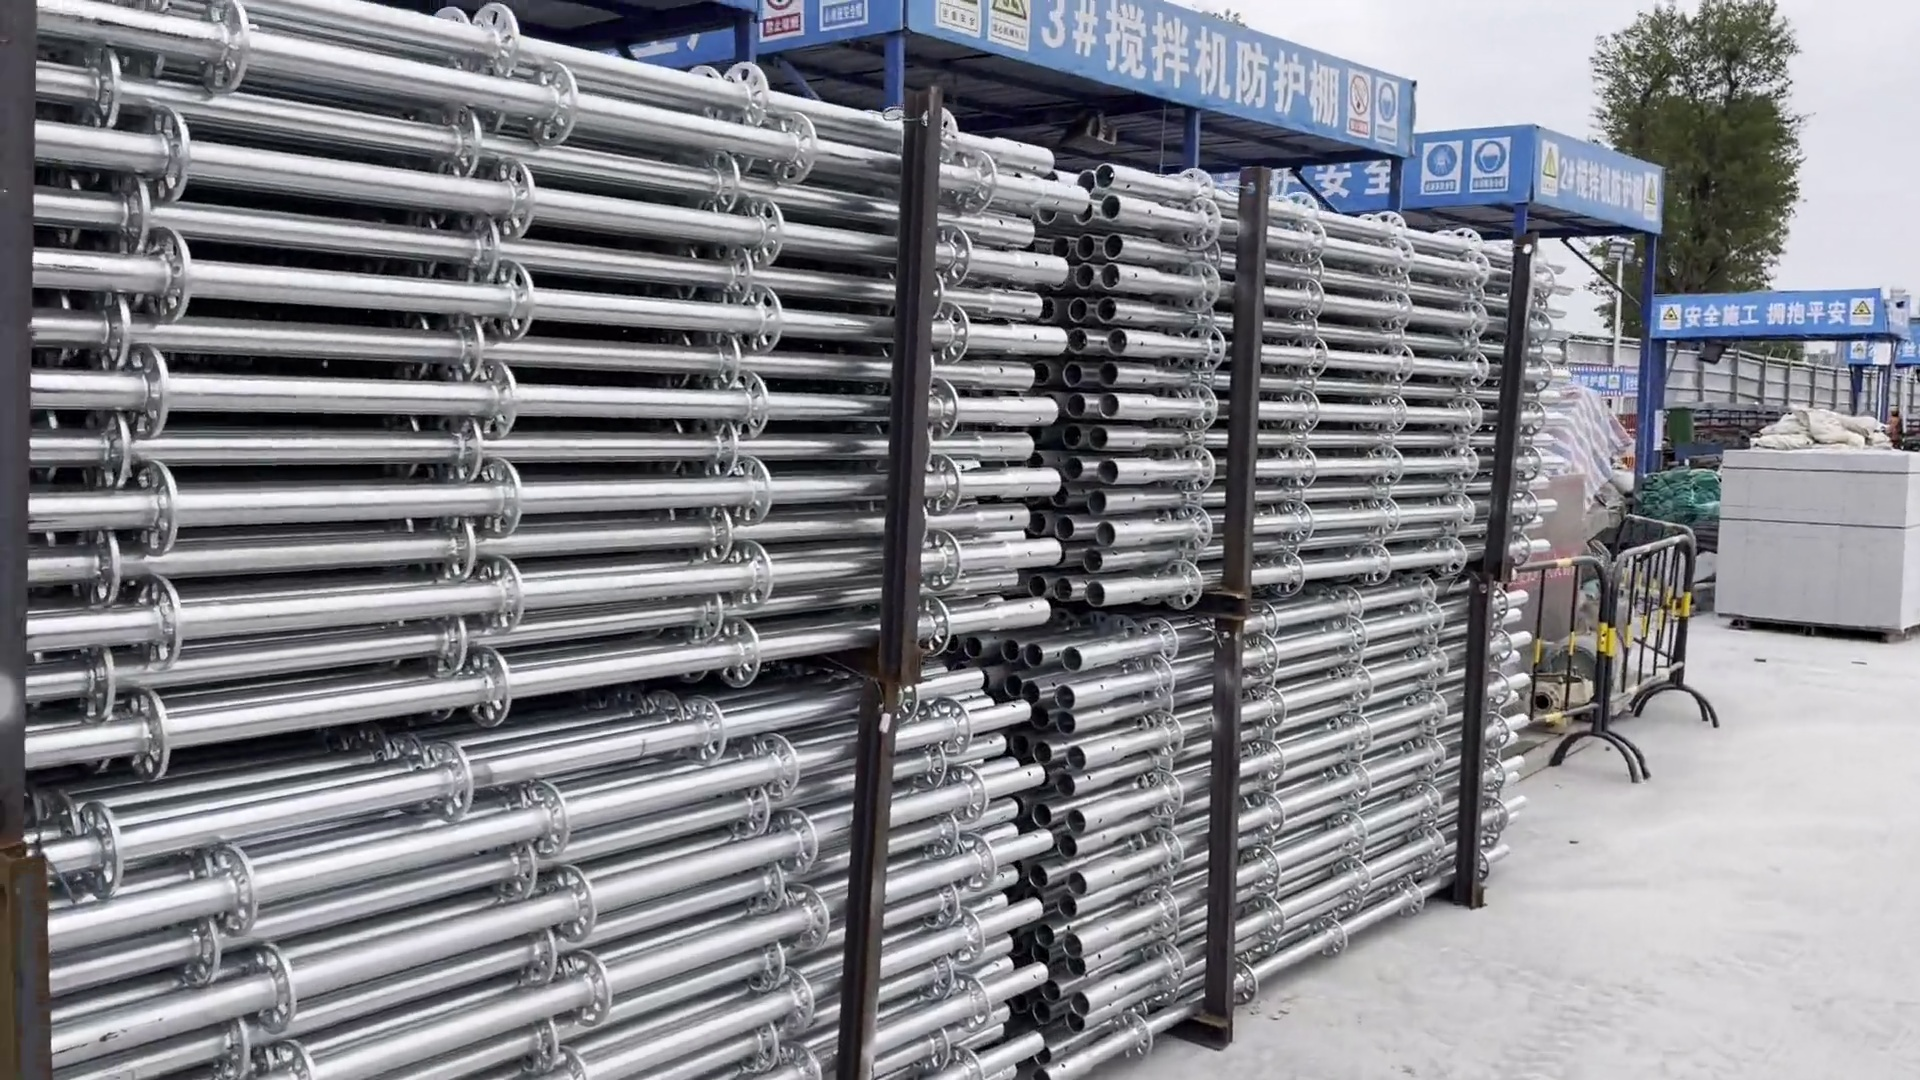scaffold: (7, 123, 1071, 782), (1, 637, 1038, 1080), (1002, 575, 1557, 1080), (1025, 191, 1513, 626)
